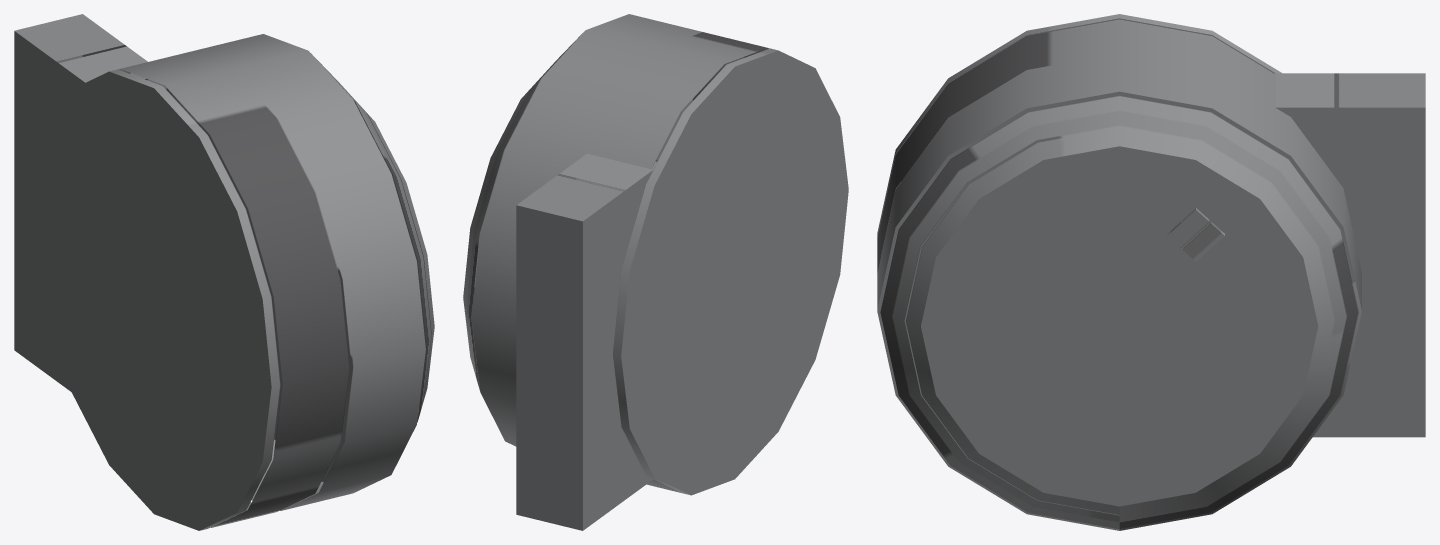
3 renders of one model, left to right at view 1: azimuth 30°, elevation 25°; view 2: azimuth 150°, elevation 25°; view 3: azimuth 270°, elevation 25°, orthographic. The views are drawn at different scales.
Size of the model in its own units: 0.88 by 1.9 by 2.15.
